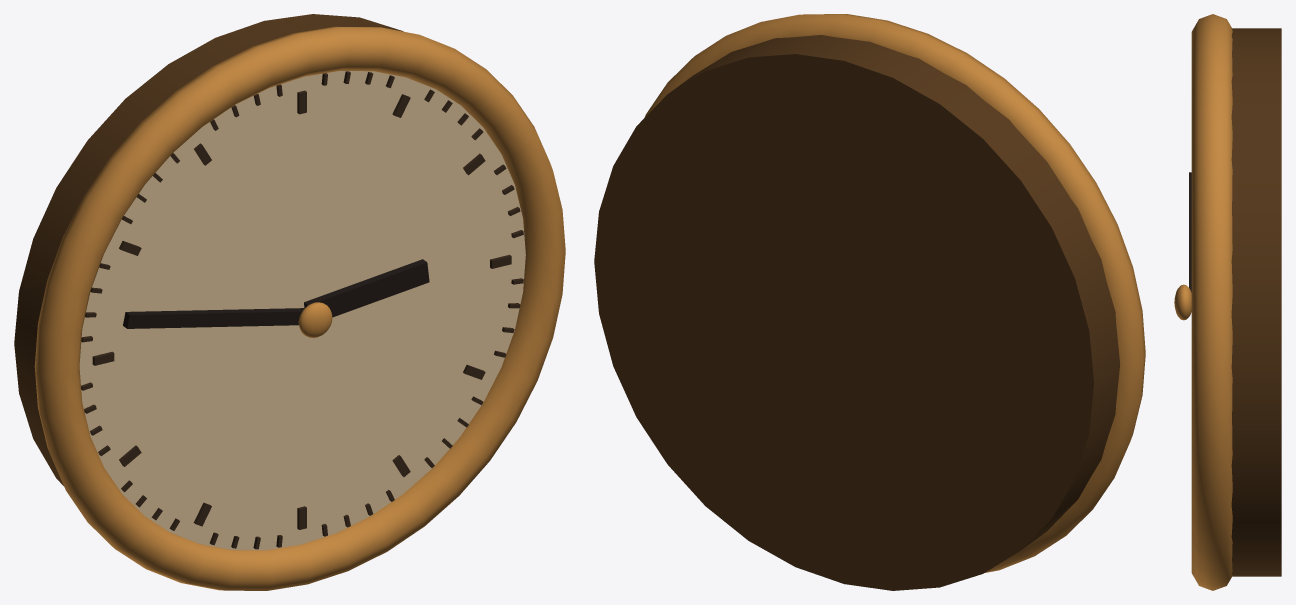
Rendered from mia-clock.glb.
3 views of the same model, side by side, from view 1: azimuth 30°, elevation 25°; view 2: azimuth 150°, elevation 25°; view 3: azimuth 270°, elevation 25° (orthographic). The views are drawn at different scales.
Parts seen in each view (by area): view 1: Body_ivory, Body_brass, Body_wood, Body_grain, Body_black; view 2: Body_wood, Body_brass; view 3: Body_wood, Body_brass, Body_black.
Part boxes in pixels (box(x1,y1,x2,y2)): Body_ivory: box(79, 71, 525, 550); Body_brass: box(34, 26, 565, 590); Body_wood: box(14, 14, 403, 485); Body_grain: box(81, 71, 523, 549); Body_black: box(123, 259, 429, 328); Body_wood: box(594, 35, 1120, 590); Body_brass: box(644, 14, 1145, 572); Body_wood: box(1231, 28, 1281, 576); Body_brass: box(1174, 14, 1232, 590); Body_black: box(1189, 172, 1191, 292).
Bounding box in the file's own units: 0.614 × 0.614 × 0.114.
